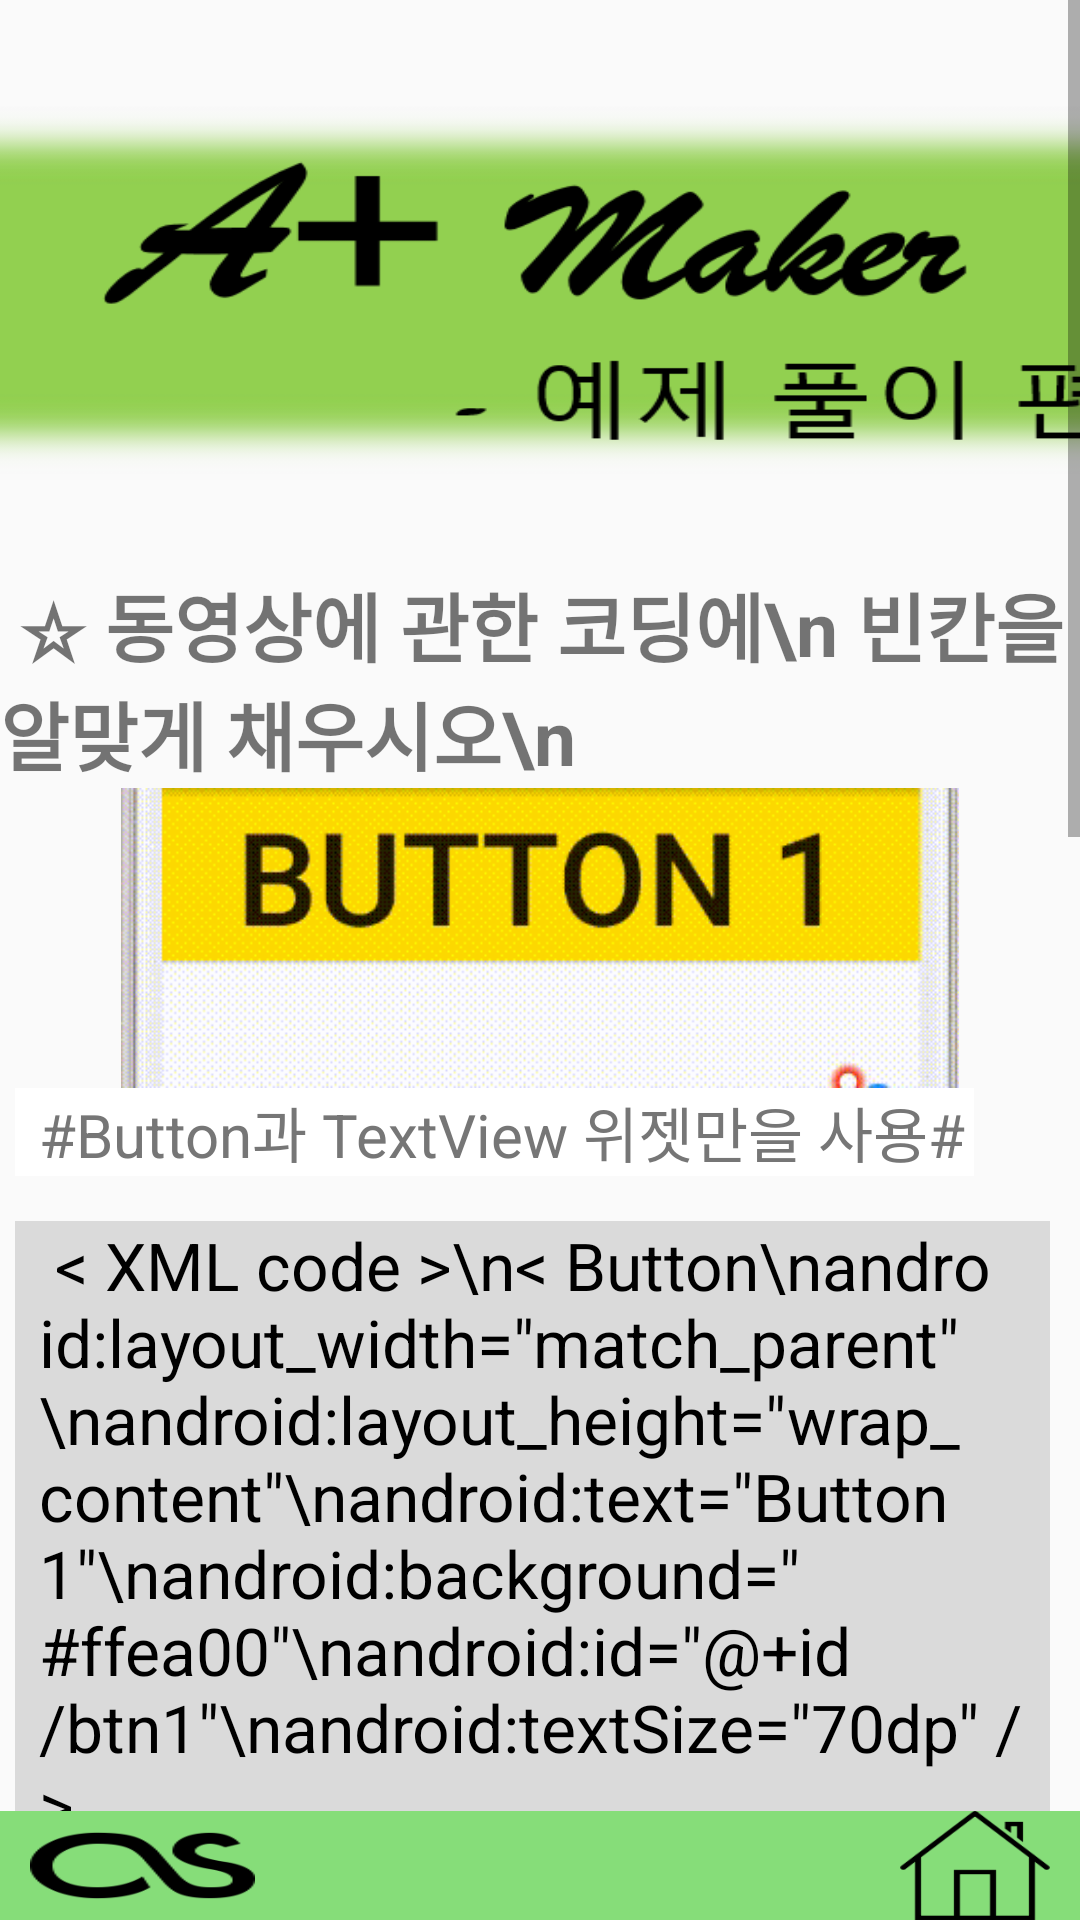

Icons on this 1080x1920 Android screen, each with the point to tap as point (x, y):
home: point (975, 1865)
